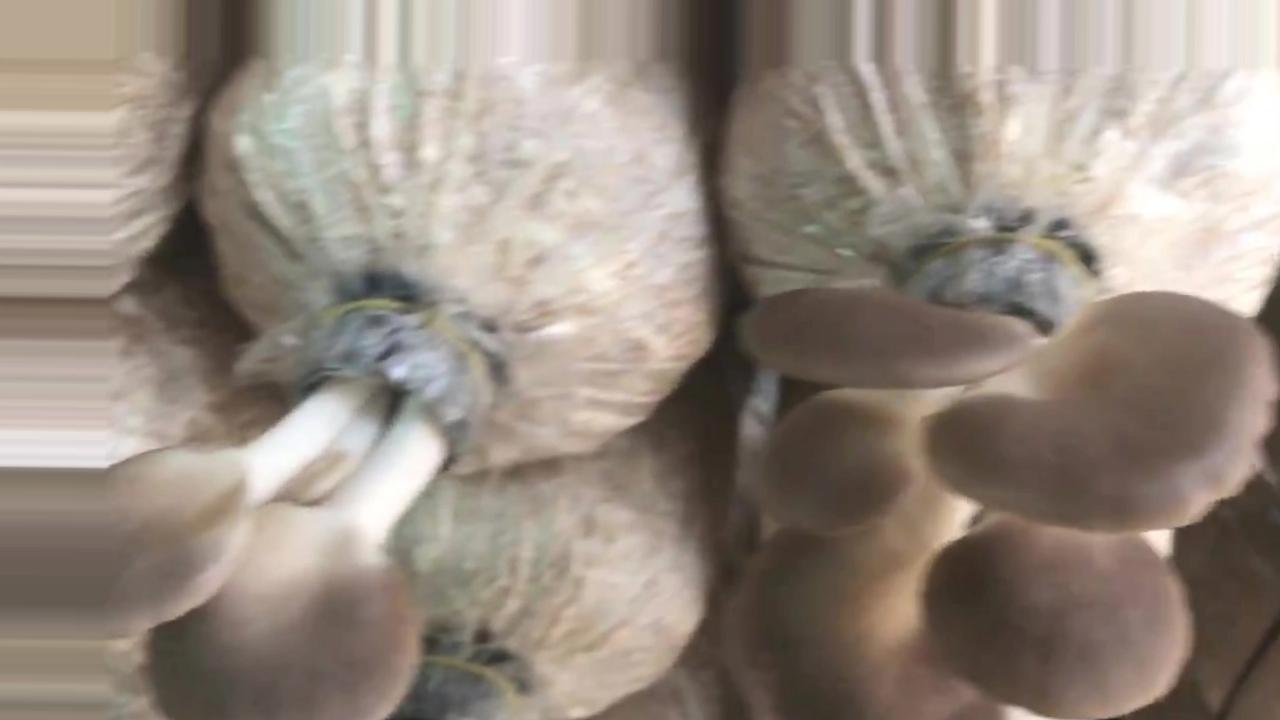nam: (726, 234, 1270, 719), (1, 295, 487, 720)
